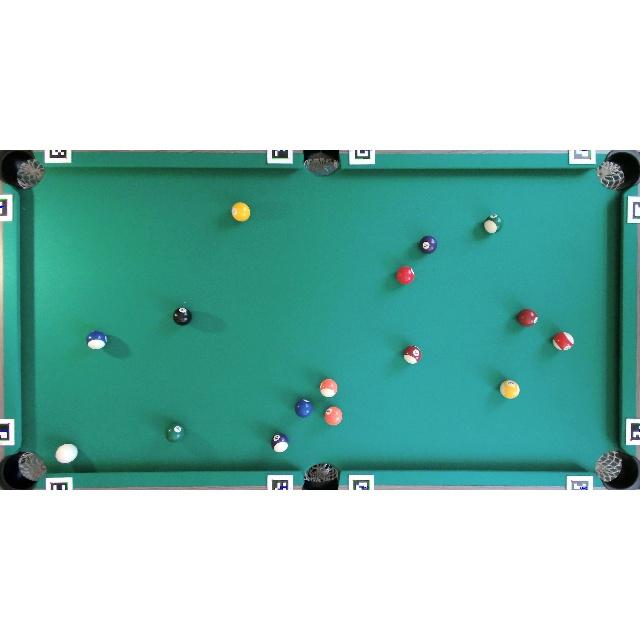cue ball: (55, 444, 78, 464)
other: (552, 331, 575, 351), (165, 423, 186, 443), (86, 331, 107, 350), (500, 380, 520, 399), (324, 406, 343, 426), (231, 202, 250, 222), (402, 345, 422, 364), (173, 306, 192, 326), (518, 308, 538, 327), (270, 433, 289, 452), (295, 398, 313, 418), (484, 214, 502, 234), (319, 379, 338, 397), (396, 266, 415, 284), (419, 236, 437, 254)
